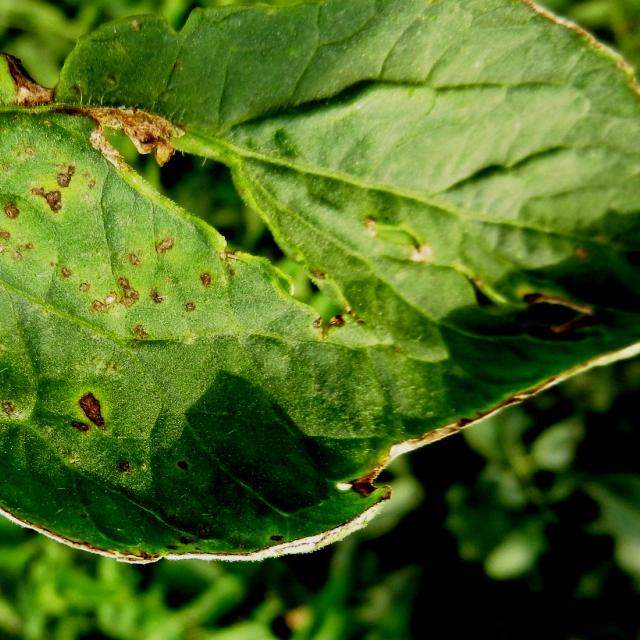Tomato leaf bacterial spot: (0, 0, 640, 594)
